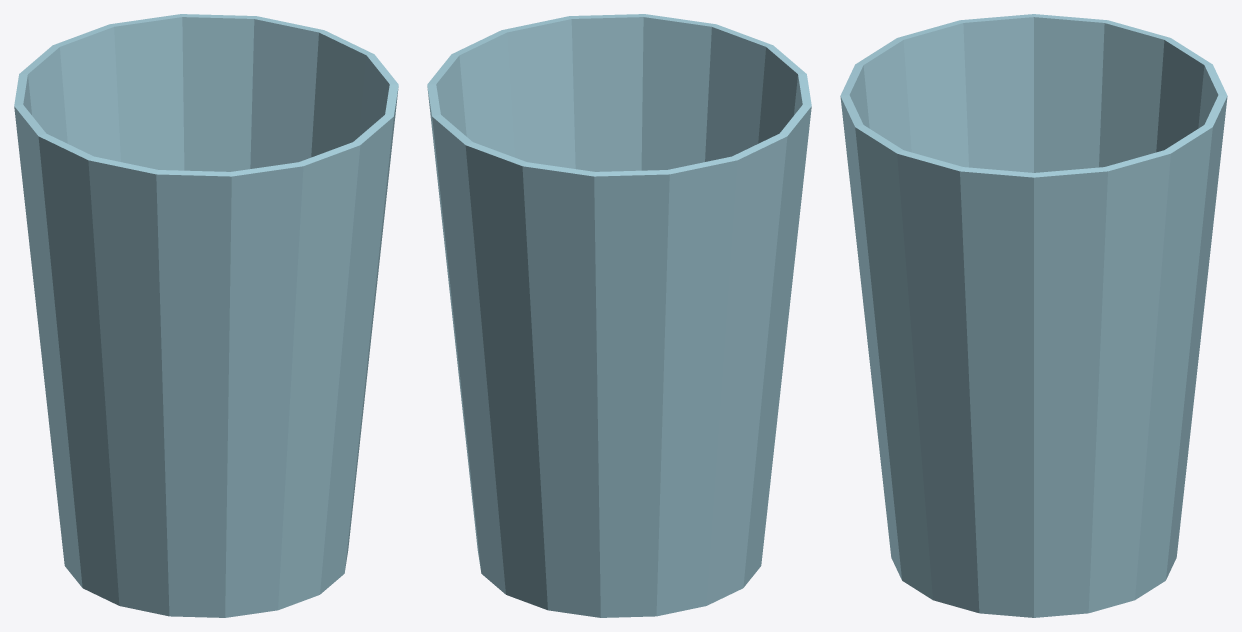
Rendered from Vaso01.fbx.
3 renders of one model, left to right at view 1: azimuth 30°, elevation 25°; view 2: azimuth 150°, elevation 25°; view 3: azimuth 270°, elevation 25°, orthographic.
Visible parts, largest first — view 1: Vaso01; view 2: Vaso01; view 3: Vaso01.
Boxes of the visible parts, bbox=[...] form: Vaso01: bbox=[14, 14, 398, 617]; Vaso01: bbox=[427, 14, 811, 617]; Vaso01: bbox=[840, 14, 1227, 617].
Bounding box in the file's own units: 10.57 × 13.93 × 10.57.
